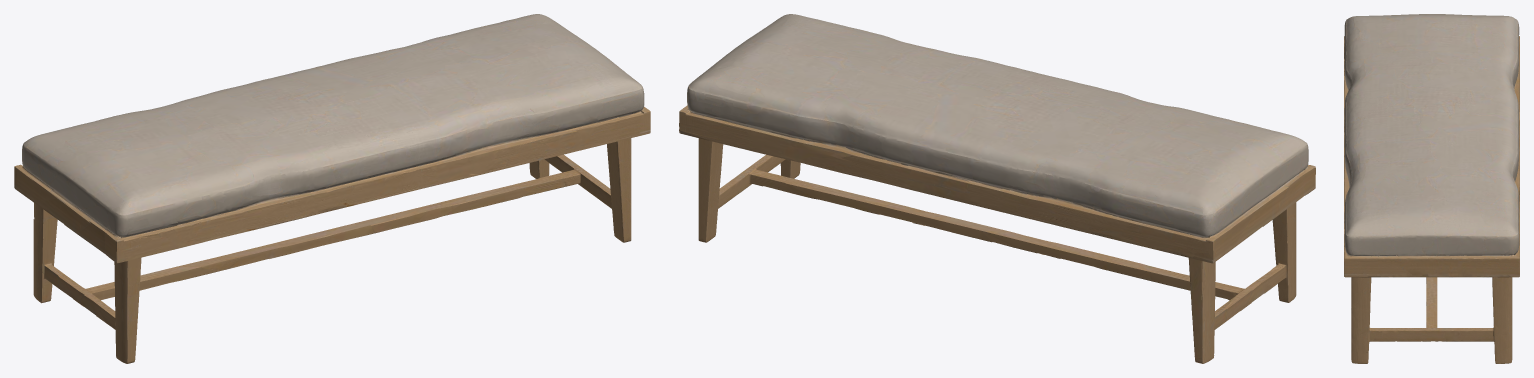
3 renders of one model, left to right at view 1: azimuth 30°, elevation 25°; view 2: azimuth 150°, elevation 25°; view 3: azimuth 270°, elevation 25°, orthographic. The views are drawn at different scales.
Visible parts, largest first — view 1: Mesh_0; view 2: Mesh_0; view 3: Mesh_0.
Boxes of the visible parts, <box> form: Mesh_0: <box>14,14,650,363</box>; Mesh_0: <box>679,14,1315,363</box>; Mesh_0: <box>1344,14,1519,363</box>.
Bounding box in the file's own units: 1.3 × 0.3959 × 0.4341.
1 material, 1 textured.
